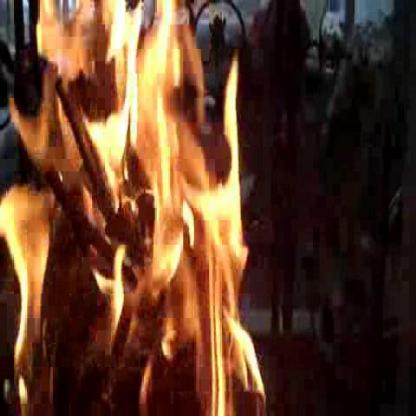fire: (2, 4, 269, 413)
